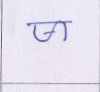aa_matra: (63, 23, 67, 41)
